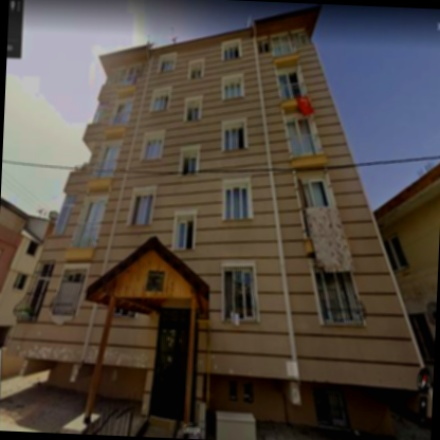door: (149, 308, 191, 421), (190, 308, 199, 423)
